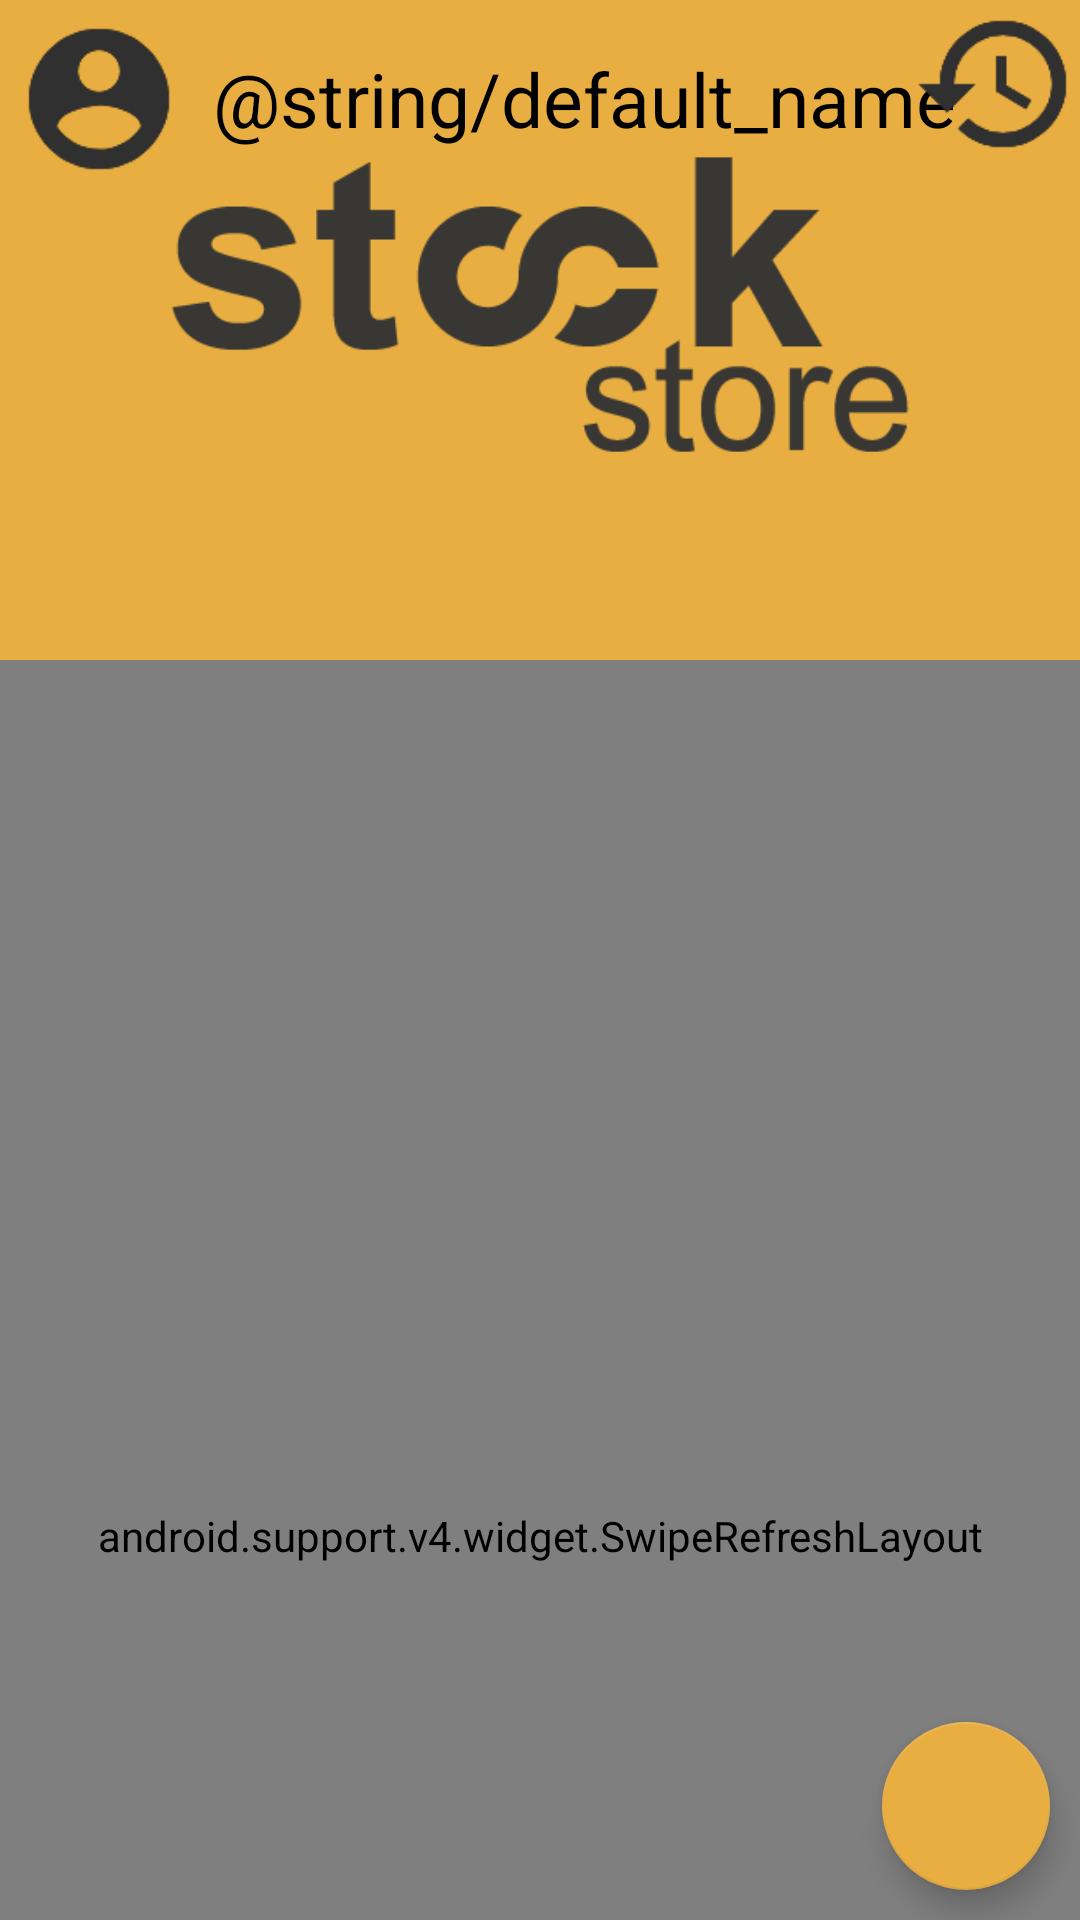

Icon bounding boxes for this 1080px x 1920px phone screenshot, format (x1, y1, x2, y2):
account circle: (28, 28, 170, 170)
history: (918, 20, 1067, 148)
